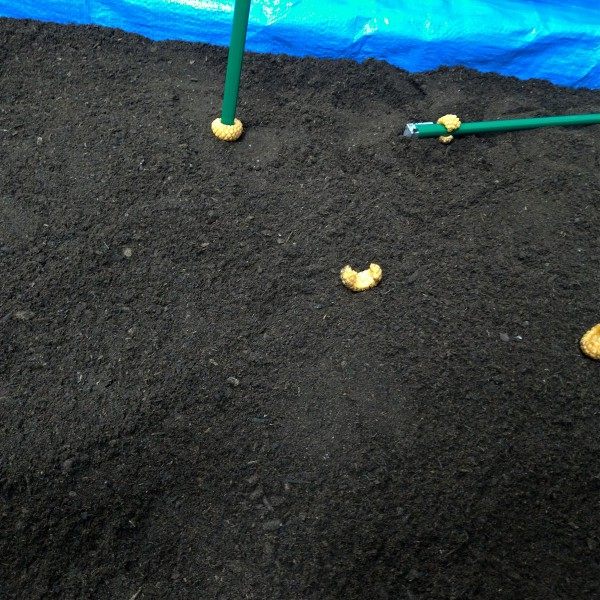eggs: (333, 255, 388, 296), (201, 111, 247, 143), (576, 314, 600, 365), (434, 107, 467, 144)
